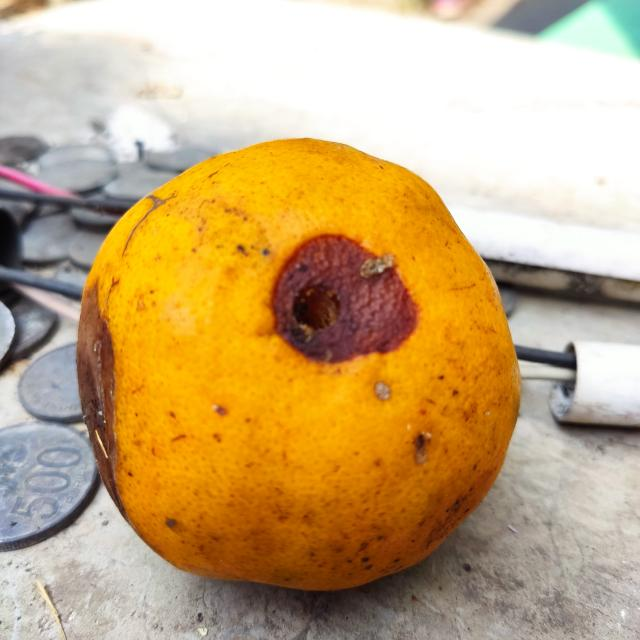orange: (71, 134, 524, 596)
